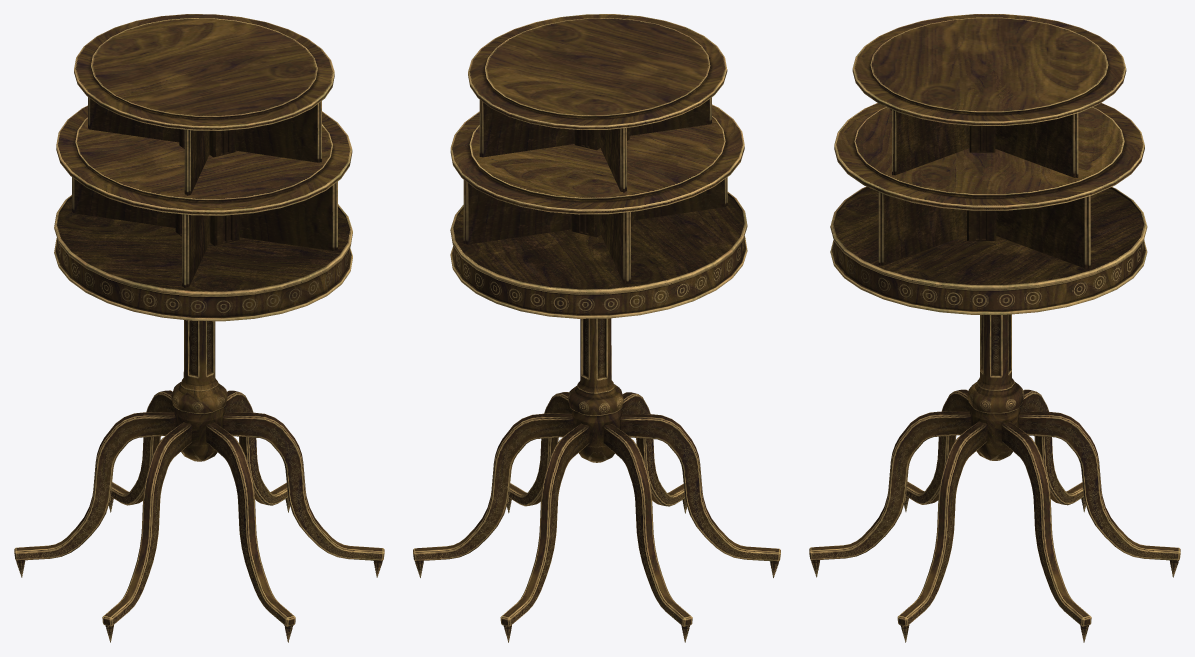
Rendered from SM_FoodStandGround_2S.fbx.
3 views of the same model, side by side, from view 1: azimuth 30°, elevation 25°; view 2: azimuth 150°, elevation 25°; view 3: azimuth 270°, elevation 25° (orthographic).
Visible parts, largest first — view 1: SM_FoodStandGround_2S_LOD0; view 2: SM_FoodStandGround_2S_LOD0; view 3: SM_FoodStandGround_2S_LOD0.
Boxes of the visible parts, x1,y1,x2,y2 form: SM_FoodStandGround_2S_LOD0: (14,14,384,642); SM_FoodStandGround_2S_LOD0: (413,14,780,642); SM_FoodStandGround_2S_LOD0: (809,14,1180,642).
Size of the model in its own units: 115 by 131 by 199.
1 material, 1 textured.
